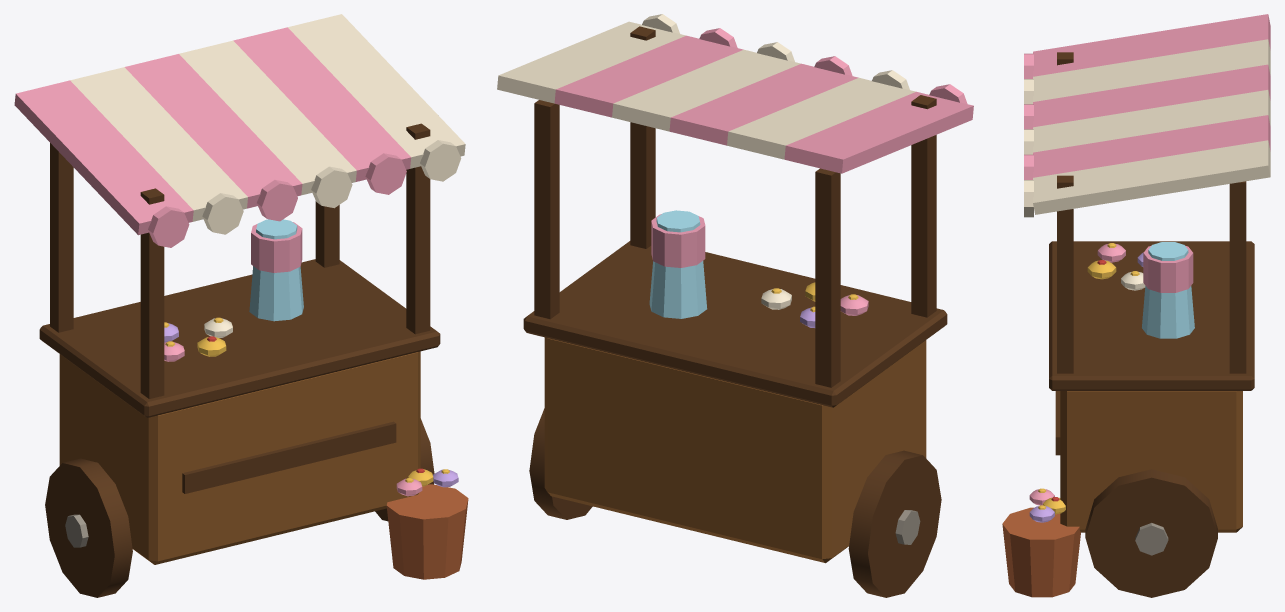
The model's file is PR_Station_SezonBahar_T1.fbx.
3 renders of one model, left to right at view 1: azimuth 30°, elevation 25°; view 2: azimuth 150°, elevation 25°; view 3: azimuth 270°, elevation 25°, orthographic. The views are drawn at different scales.
Parts seen in each view (by area): view 1: PR_Station_SezonBahar_T1; view 2: PR_Station_SezonBahar_T1; view 3: PR_Station_SezonBahar_T1.
Part boxes in pixels (bbox=[...]): PR_Station_SezonBahar_T1: bbox=[14, 14, 468, 597]; PR_Station_SezonBahar_T1: bbox=[497, 14, 973, 597]; PR_Station_SezonBahar_T1: bbox=[1002, 14, 1270, 597].
Size of the model in its own units: 1.1 by 1.44 by 0.808.
Materials: 1 (1 with a texture image).
